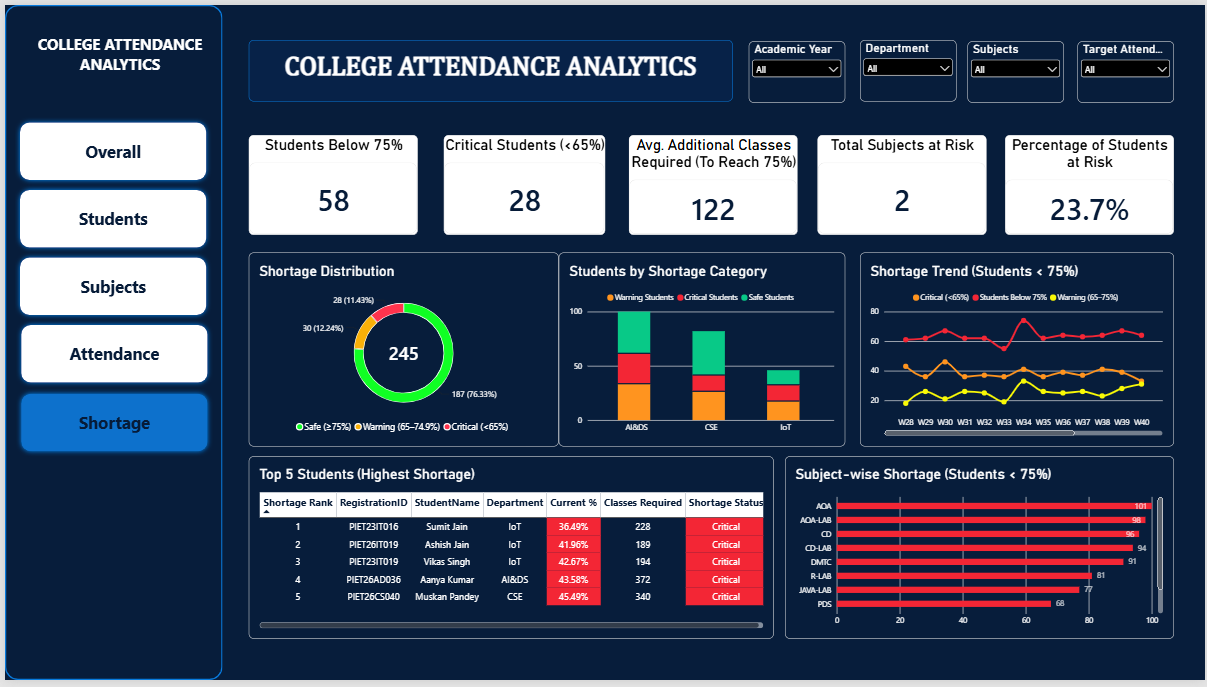

Layout of this report page (visuals, bound fields, positions):
{"tool":"powerbi","page":{"name":"Shortage","canvas":[1920,1080],"ordinal":4},"visuals":[{"type":"cardVisual","title":"Total Subjects at Risk","fields":{"Data":["DimSubject.Total Subjects at Risk"]},"box":[1300,208,270,160],"z":0},{"type":"shape","title":"Sidebar Background","box":[0,0,348,1080],"z":1},{"type":"textbox","box":[390,56,774,98],"z":2},{"type":"textbox","box":[10,10,348,412],"z":3},{"type":"cardVisual","title":"Critical Students (<65%)","fields":{"Data":["DimStudent.Critical (<65%)"]},"box":[702,208,258,160],"z":4},{"type":"cardVisual","title":"Avg. Additional Classes Required (To Reach 75%)","fields":{"Data":["DimStudent.Avg Additional Classes Required"]},"box":[998,208,270,160],"z":5},{"type":"clusteredBarChart","title":"Subject-wise Shortage (Students < 75%)","fields":{"Category":["DimSubject.SubjectCode"],"Y":["DimStudent.Students Below 75% by Subject"]},"box":[1248,722,622,292],"z":8},{"type":"donutChart","title":"Shortage Distribution","fields":{"Category":["AttendanceSummary.Attendance Category"],"Y":["AttendanceSummary.Students in Category"]},"box":[390,396,496,310],"z":9},{"type":"actionButton","box":[16,180,314,108],"z":15},{"type":"actionButton","box":[16,288,314,108],"z":16},{"type":"actionButton","box":[16,396,314,108],"z":17},{"type":"actionButton","box":[18,504,314,108],"z":18},{"type":"actionButton","box":[18,614,314,108],"z":19},{"type":"cardVisual","title":"Students Below 75%","fields":{"Data":["FactAttendance.Students Below 75%"]},"box":[390,208,270,160],"z":21},{"type":"columnChart","title":"Students by Shortage Category ","fields":{"Category":["DimStudent.Department"],"Y":["DimStudent.Warning Students","DimStudent.Critical Students","DimStudent.Safe Students"]},"box":[886,396,458,310],"z":22},{"type":"lineChart","title":"Shortage Trend (Students < 75%)","fields":{"Category":["FactAttendance.Week Group"],"Y":["DimStudent.Critical (<65%)","FactAttendance.Students Below 75%","DimStudent.Warning (65–75%)"]},"box":[1368,396,502,310],"z":23},{"type":"tableEx","title":"Top 5 Students (Highest Shortage)","fields":{"Values":["DimStudent.Shortage Rank","DimStudent.RegistrationID","DimStudent.StudentName","DimStudent.Department","FactAttendance.Current %","FactAttendance.Classes Required","FactAttendance.Shortage Status"]},"box":[390,722,840,292],"z":24},{"type":"slicer","fields":{"Values":["DimStudent.AcademicYear"]},"box":[1190,58,154,98],"z":25},{"type":"slicer","fields":{"Values":["DimSubject.Department"]},"box":[1368,56,154,98],"z":26},{"type":"slicer","fields":{"Values":["DimSubject.SubjectCode"]},"box":[1540,58,154,98],"z":27},{"type":"slicer","fields":{"Values":["Target Attendance.Target"]},"box":[1716,58,154,98],"z":28},{"type":"cardVisual","title":"Percentage of Students at Risk","fields":{"Data":["AttendanceSummary.Percentage of Students at Risk"]},"box":[1600,208,270,160],"z":29}]}

Visuals, with their boxes in screenshot pixels (x1, y1, x2, y2), scaled from the page's 1920x1080 canvas onto the 1207x687 screenshot:
"Total Subjects at Risk" cardVisual: region(817, 132, 987, 234)
"Sidebar Background" shape: region(0, 0, 219, 686)
textbox: region(245, 36, 732, 98)
textbox: region(6, 6, 225, 268)
"Critical Students (<65%)" cardVisual: region(441, 132, 604, 234)
"Avg. Additional Classes Required (To Reach 75%)" cardVisual: region(627, 132, 797, 234)
"Subject-wise Shortage (Students < 75%)" clusteredBarChart: region(785, 459, 1176, 645)
"Shortage Distribution" donutChart: region(245, 252, 557, 449)
actionButton: region(10, 114, 207, 183)
actionButton: region(10, 183, 207, 252)
actionButton: region(10, 252, 207, 321)
actionButton: region(11, 321, 209, 389)
actionButton: region(11, 391, 209, 459)
"Students Below 75%" cardVisual: region(245, 132, 415, 234)
"Students by Shortage Category " columnChart: region(557, 252, 845, 449)
"Shortage Trend (Students < 75%)" lineChart: region(860, 252, 1176, 449)
"Top 5 Students (Highest Shortage)" tableEx: region(245, 459, 773, 645)
slicer - DimStudent.AcademicYear: region(748, 37, 845, 99)
slicer - DimSubject.Department: region(860, 36, 957, 98)
slicer - DimSubject.SubjectCode: region(968, 37, 1065, 99)
slicer - Target Attendance.Target: region(1079, 37, 1176, 99)
"Percentage of Students at Risk" cardVisual: region(1006, 132, 1176, 234)
